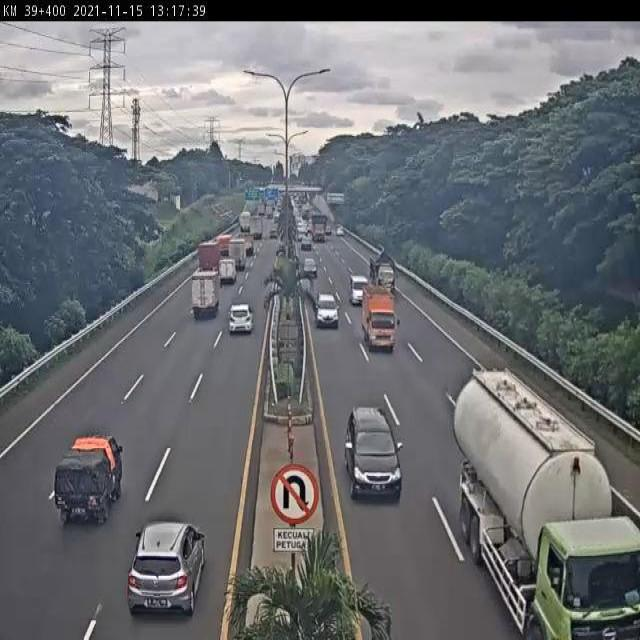ARABA: (125, 520, 205, 615), (54, 428, 125, 523), (348, 407, 405, 501), (227, 303, 256, 336), (314, 292, 341, 327), (350, 273, 371, 307)
KAMYONET: (362, 288, 397, 352), (367, 245, 398, 298), (193, 269, 221, 319), (197, 239, 222, 273), (226, 236, 246, 271), (219, 257, 237, 284), (301, 254, 319, 278)
TIR: (455, 366, 640, 640)
